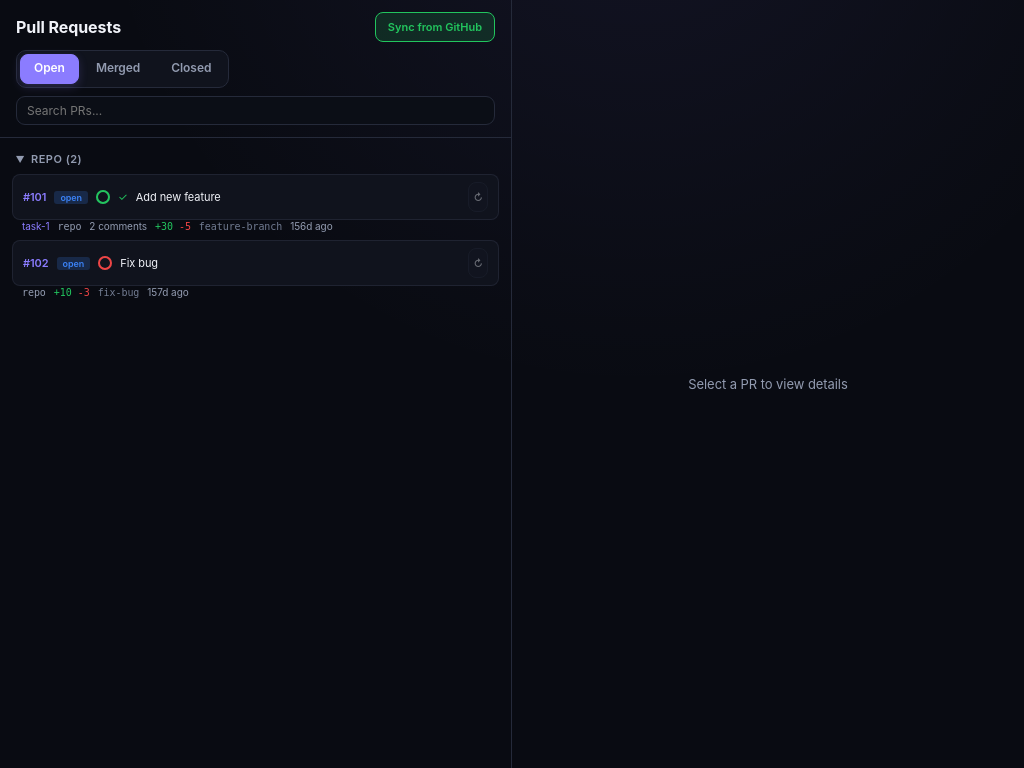
Scenario: PRsPage › clicking a PR shows the detail panel
This screenshot has width=1024, height=768.
Click on the PR card
Click the text "Add new feature": (178, 197) x1=136 y1=190 x2=221 y2=204
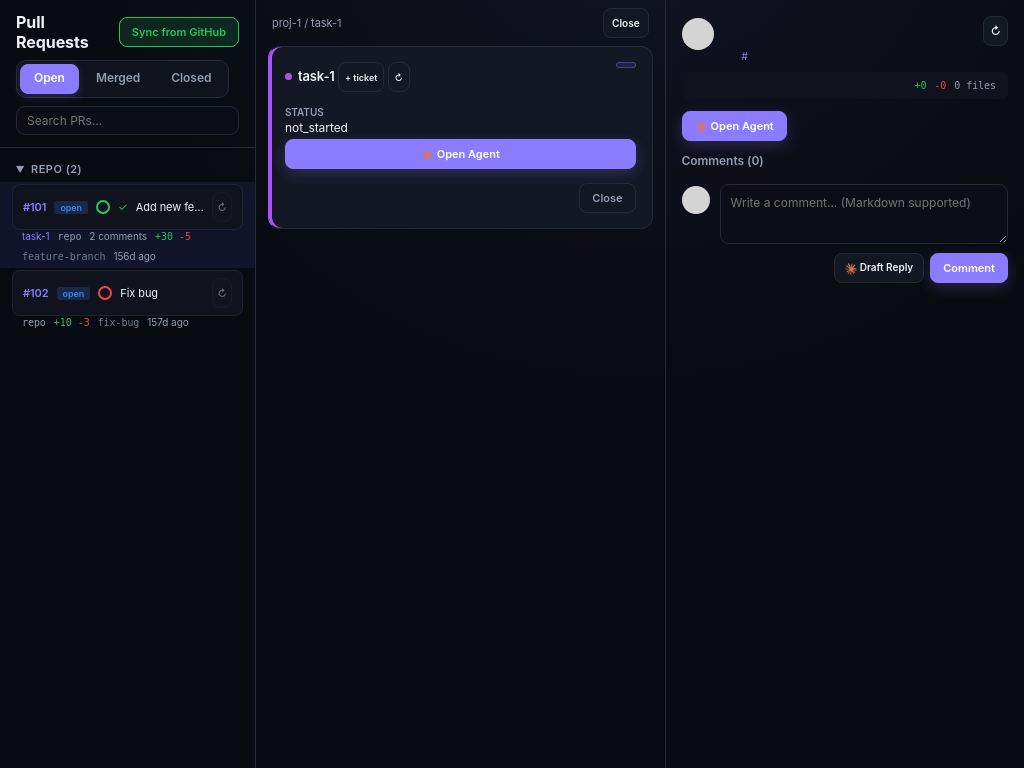
Expected: the text "Select a PR to view details" is gone
